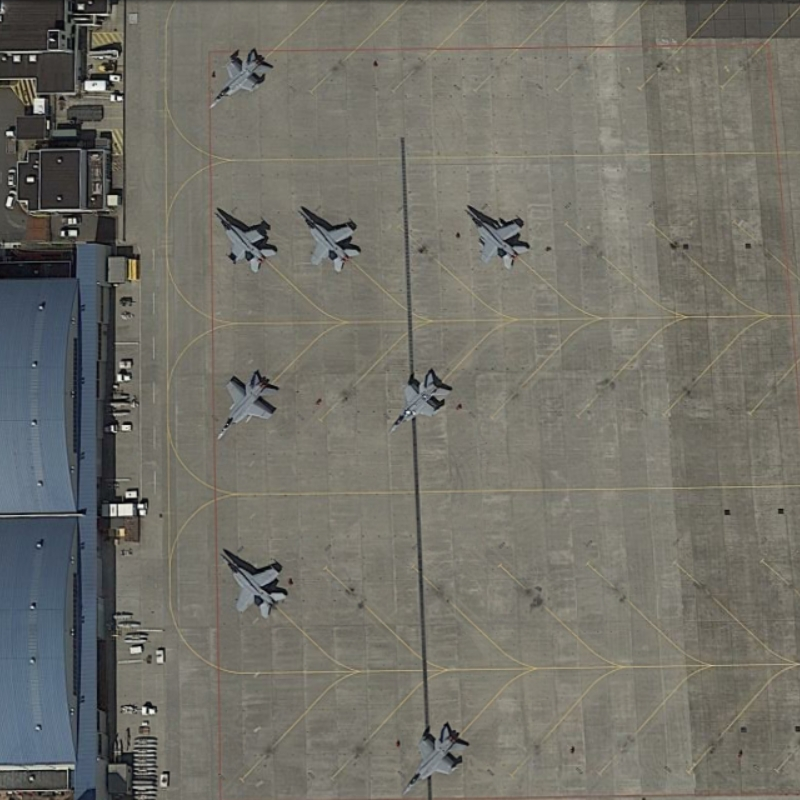A16: (452, 194, 541, 276), (215, 539, 294, 625), (396, 714, 477, 797), (207, 196, 287, 280), (291, 200, 373, 281), (209, 363, 281, 444), (384, 363, 458, 434), (205, 39, 280, 109)
